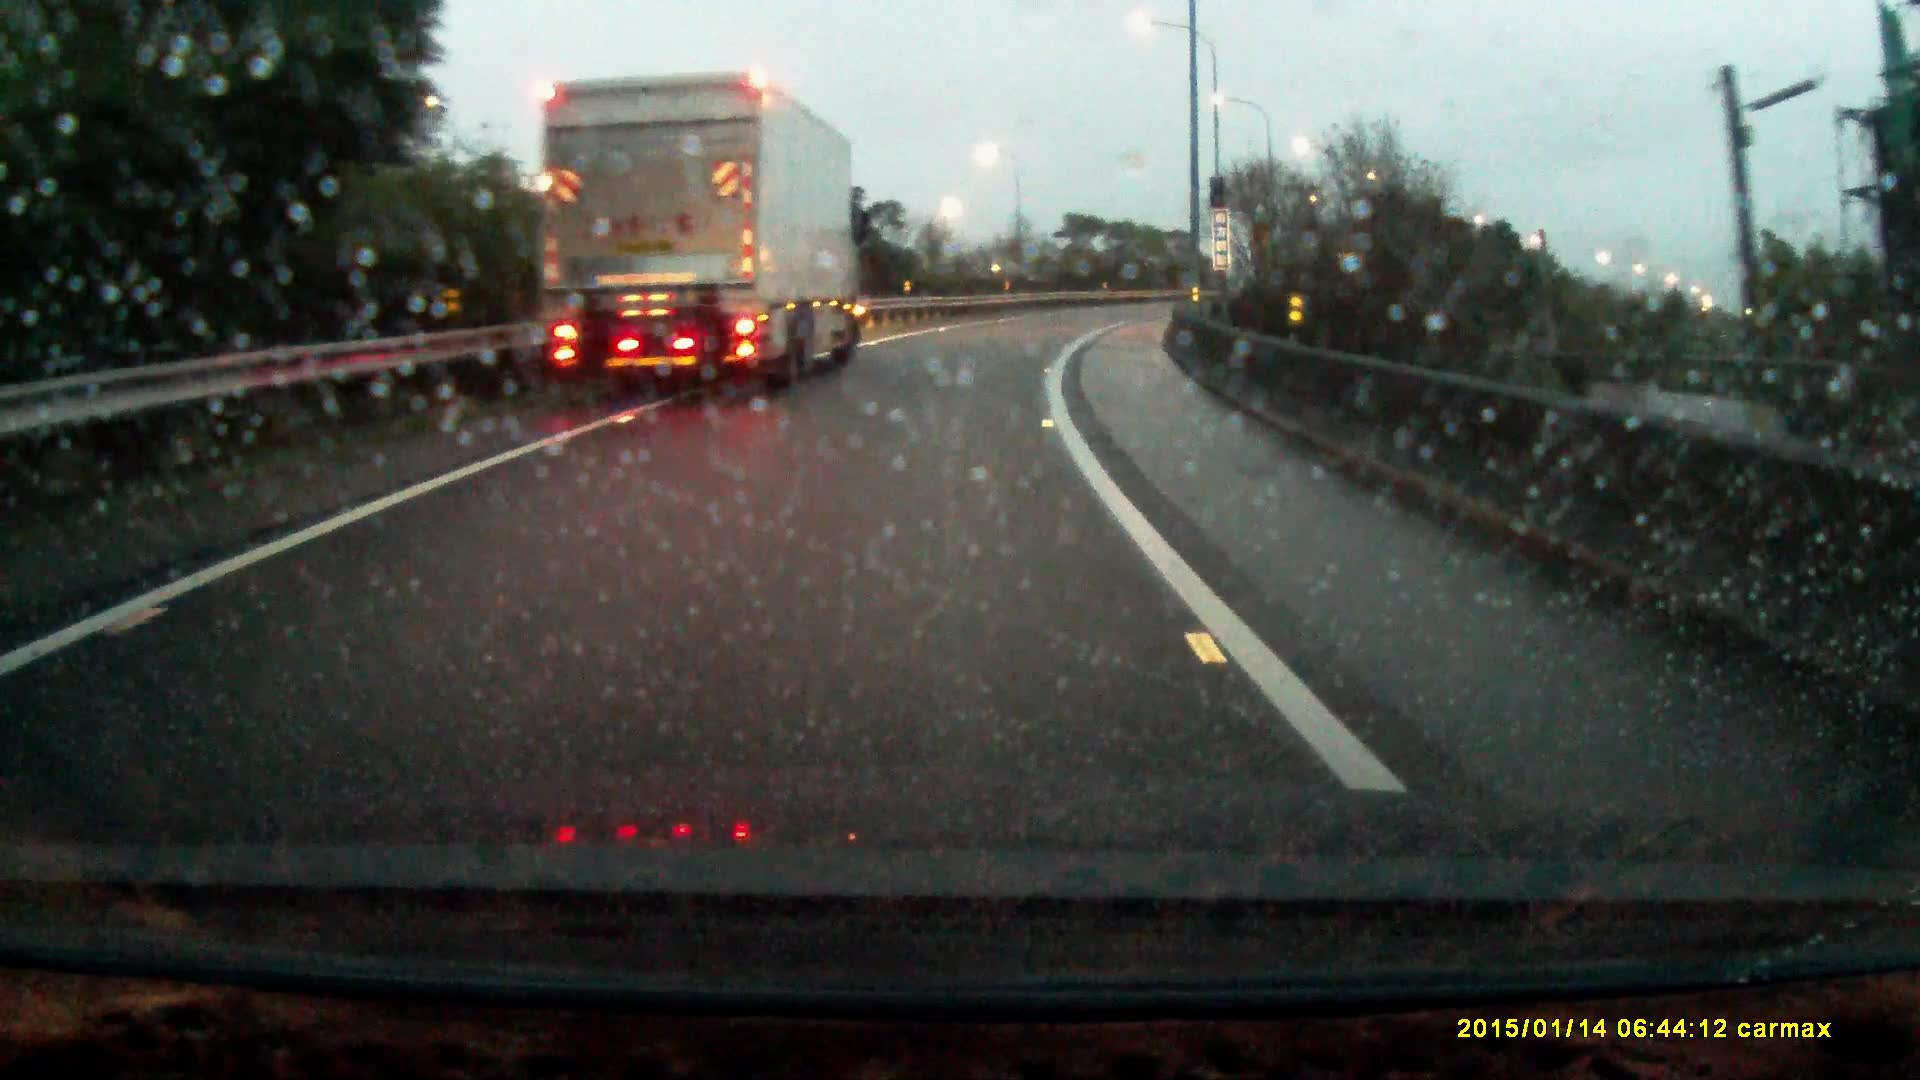vehicle: (531, 71, 865, 394)
